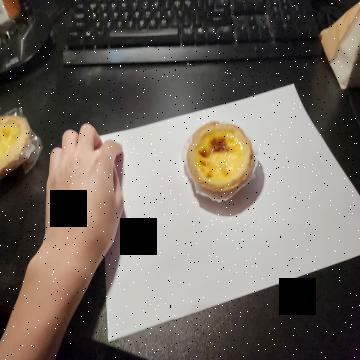EggTart: (186, 119, 254, 193)
